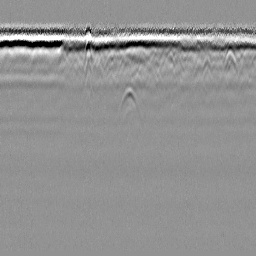cavity: (116, 82, 144, 129)
